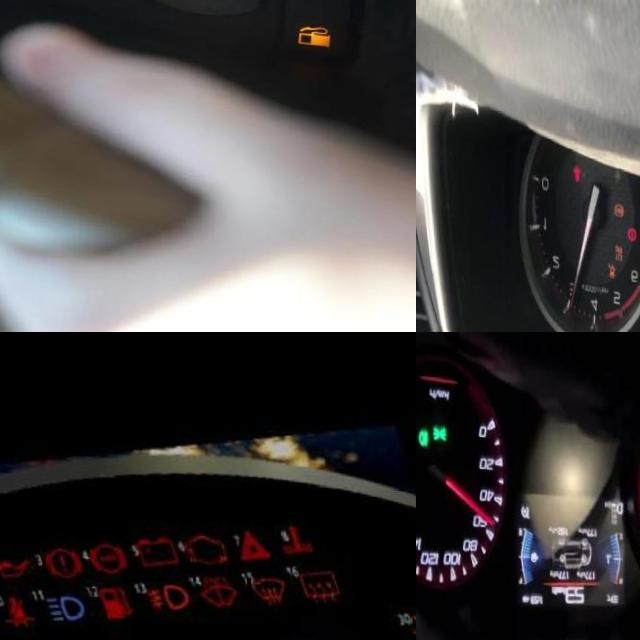Engine cooling system: (269, 499, 312, 543)
Low fuel level: (91, 568, 129, 613)
Seat Belt: (572, 161, 581, 181)
